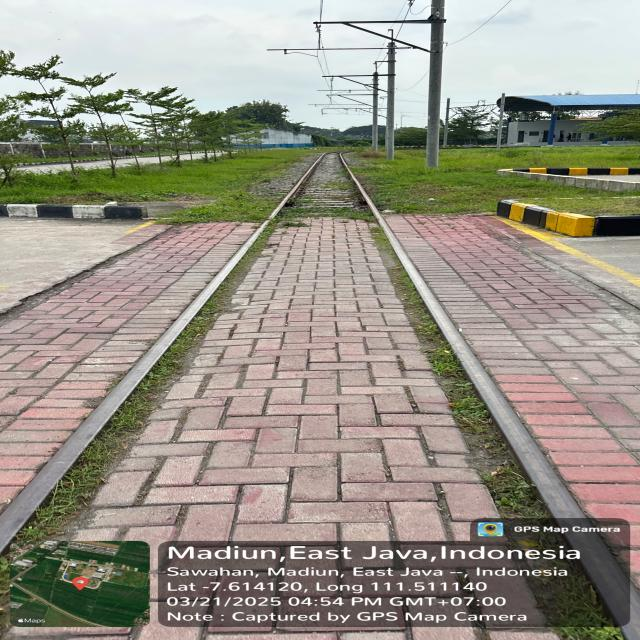rail-detection: (0, 155, 322, 554), (341, 158, 585, 518), (581, 557, 640, 640)
